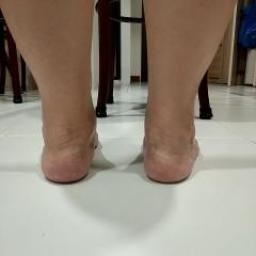Back View -Both Feet-: (22, 74, 214, 202)
